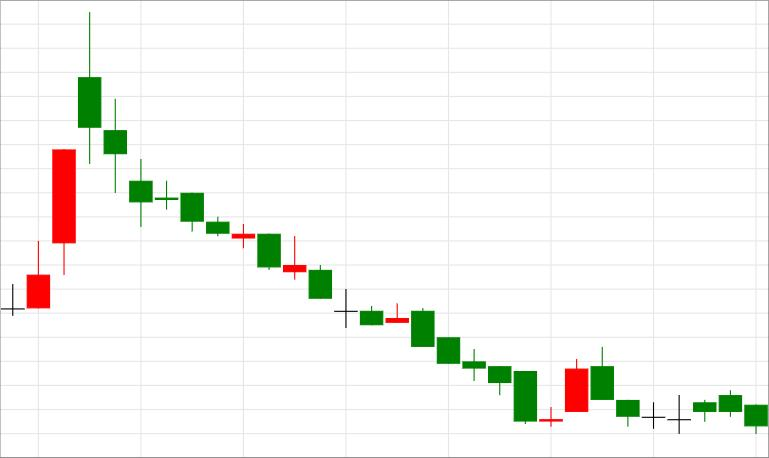morning_star_rise: (308, 265, 588, 426)
